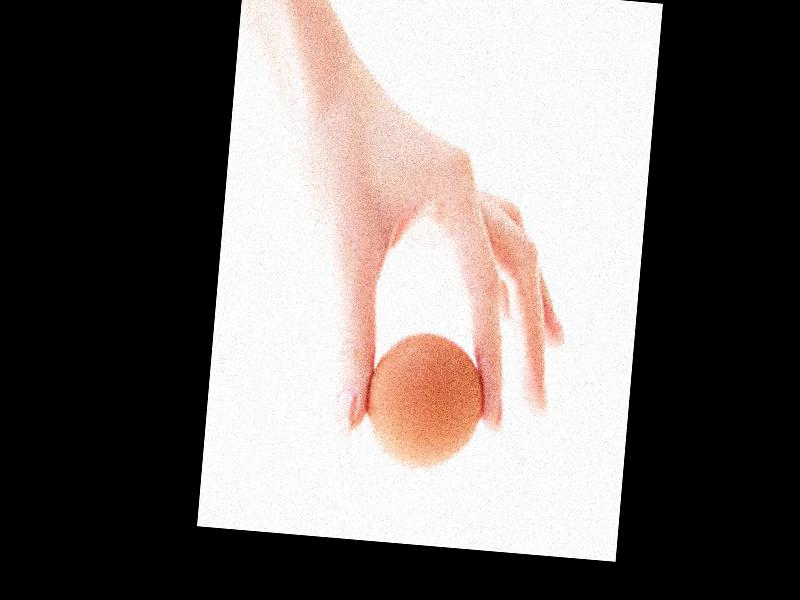Eggs: (360, 331, 489, 472)
